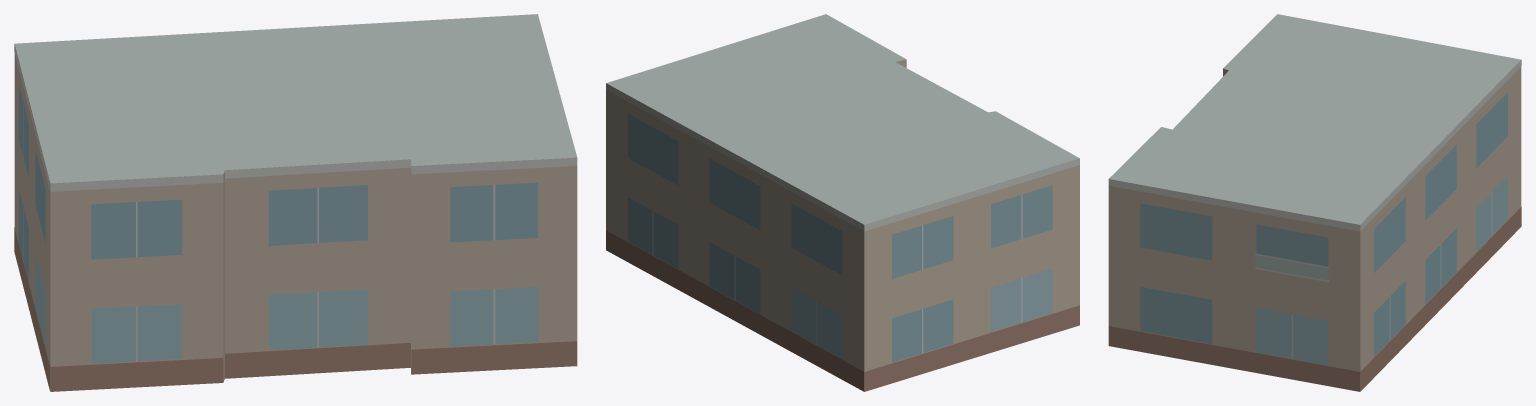
Rendered from survey-upis-32663384.glb.
The picture shows the model from 3 angles, left to right: view 1: azimuth 30°, elevation 25°; view 2: azimuth 150°, elevation 25°; view 3: azimuth 270°, elevation 25°; orthographic projection. The views are drawn at different scales.
Parts seen in each view (by area): view 1: survey-upis-32663384.tmp; view 2: survey-upis-32663384.tmp; view 3: survey-upis-32663384.tmp.
Part boxes in pixels (x1=…): survey-upis-32663384.tmp: x1=14, y1=14, x2=577, y2=391; survey-upis-32663384.tmp: x1=606, y1=14, x2=1079, y2=391; survey-upis-32663384.tmp: x1=1108, y1=14, x2=1521, y2=391.
Size of the model in its own units: 16.53 by 6.1 by 13.67.
